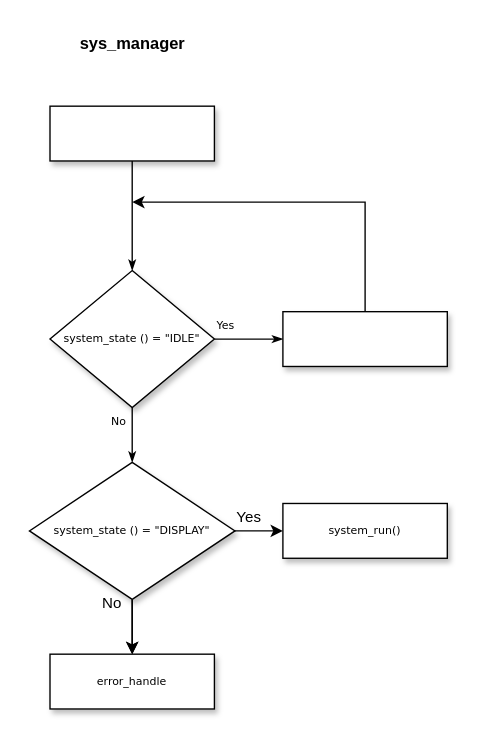
Some shapes in this 480 by 743 pixel diagram are drawn without their labels. The centre of each missing label's shape, as x and y in pixels:
"system_int" goes at [133,135].
"system_setting()" goes at [366,340].
